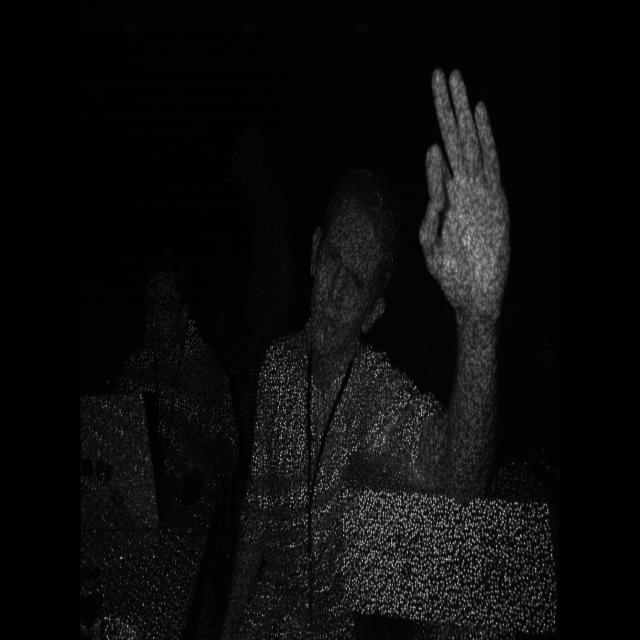F: (409, 51, 521, 339)
